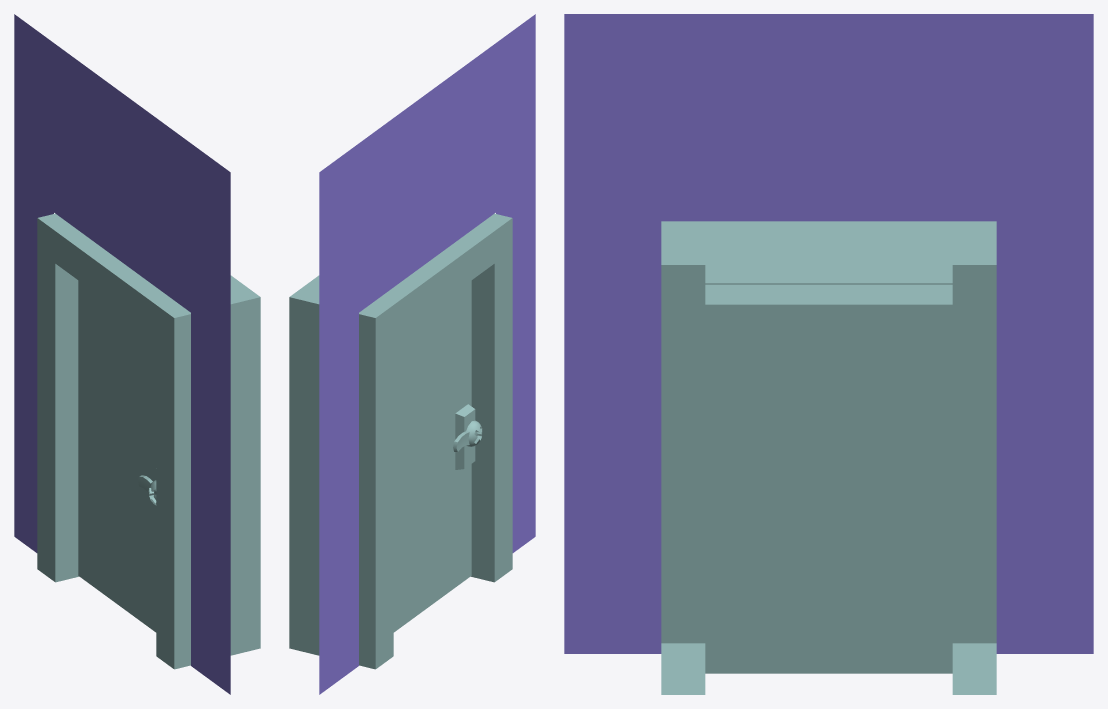
File: Ev_company_exit_stair_doorwall.fbx
3 renders of one model, left to right at view 1: azimuth 30°, elevation 25°; view 2: azimuth 150°, elevation 25°; view 3: azimuth 270°, elevation 25°, orthographic. The views are drawn at different scales.
Parts seen in each view (by area): view 1: Ev_company_exit_stail_wall02, Ev_company_exit_door_flame, Ev_company_exit_stair_door; view 2: Ev_company_exit_stail_wall02, Ev_company_exit_door_flame, Ev_company_exit_stair_door; view 3: Ev_company_exit_stail_wall02, Ev_company_exit_stair_door, Ev_company_exit_door_flame.
Boxes of the visible parts, x1,y1,x2,y2 form: Ev_company_exit_stail_wall02: (14, 14, 230, 694); Ev_company_exit_door_flame: (37, 213, 260, 669); Ev_company_exit_stair_door: (78, 280, 156, 632); Ev_company_exit_stail_wall02: (319, 14, 535, 694); Ev_company_exit_door_flame: (289, 213, 512, 669); Ev_company_exit_stair_door: (393, 280, 482, 632); Ev_company_exit_stail_wall02: (564, 14, 1093, 653); Ev_company_exit_stair_door: (705, 265, 952, 673); Ev_company_exit_door_flame: (661, 221, 996, 694).
Bounding box in the file's own units: 34.58 × 200 × 150.
